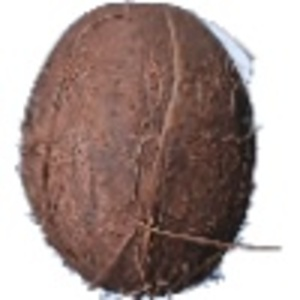coco: (19, 1, 274, 300)
